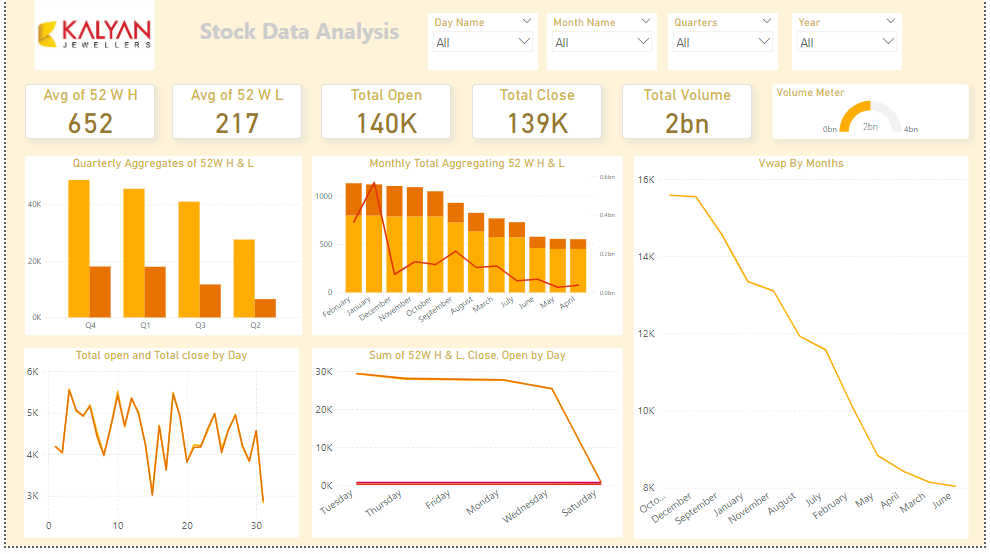

This screenshot's page, from the dashboard's own definition file:
{"tool":"powerbi","page":{"name":"Page 1","canvas":[1920,1080],"ordinal":0},"visuals":[{"type":"card","title":"Avg of 52 W H","fields":{"Values":["Kalyan Jewellers.Avg of 52w h"]},"box":[36.7,172.8,254.9,108],"z":0},{"type":"card","title":"Total Open","fields":{"Values":["Kalyan Jewellers.Total open"]},"box":[617.8,172.8,254.9,108],"z":1000},{"type":"card","title":"Avg of 52 W L","fields":{"Values":["Kalyan Jewellers.Avg of 52 w l"]},"box":[326.2,172.8,254.9,108],"z":2000},{"type":"card","title":"Total Close","fields":{"Values":["Kalyan Jewellers.Total close"]},"box":[915.8,172.8,254.9,108],"z":3000},{"type":"card","title":"Total Volume","fields":{"Values":["Kalyan Jewellers.Total volume"]},"box":[1209.6,172.8,254.9,108],"z":4000},{"type":"slicer","fields":{"Values":["Kalyan Jewellers.Month Name"]},"box":[1062,34,216,112],"z":5000},{"type":"slicer","fields":{"Values":["Kalyan Jewellers.Quarters"]},"box":[1300,34,216,112],"z":6000},{"type":"slicer","fields":{"Values":["Kalyan Jewellers.Year"]},"box":[1544,34,216,112],"z":7000},{"type":"slicer","fields":{"Values":["Kalyan Jewellers.Day Name"]},"box":[828,34,216,112],"z":8000},{"type":"image","box":[42,0,266,150],"z":9000},{"type":"clusteredColumnChart","title":"Quarterly Aggregates of 52W H & L","fields":{"Y":["Kalyan Jewellers.52W H ","Kalyan Jewellers.52W L "],"Category":["Kalyan Jewellers.Quarters"]},"box":[36.7,313.2,544.3,352.1],"z":10000},{"type":"lineChart","fields":{"Category":["Kalyan Jewellers.Date .Variation.Date Hierarchy.Day"],"Y":["Kalyan Jewellers.Total open","Kalyan Jewellers.Total close"]},"box":[36,692,540,372],"z":11000},{"type":"lineStackedColumnComboChart","title":"Monthly Total Aggregating 52 W H & L","fields":{"Y":["Kalyan Jewellers.Avg of 52w h","Kalyan Jewellers.Avg of 52 w l"],"Category":["Kalyan Jewellers.Month Name"],"Y2":["Kalyan Jewellers.Total volume"]},"box":[600,314,610,352],"z":12000},{"type":"lineChart","title":"Sum of 52W H & L, Close, Open by Day","fields":{"Y":["Kalyan Jewellers.Total close","Kalyan Jewellers.Total open","Kalyan Jewellers.Avg of 52 w l","Kalyan Jewellers.Avg of 52w h"],"Category":["Kalyan Jewellers.Day Name"]},"box":[600,692,610,372],"z":13000},{"type":"textbox","box":[326,0,500,146],"z":14000},{"type":"lineChart","title":"Vwap By Months","fields":{"Y":["Kalyan Jewellers.vwap "],"Category":["Kalyan Jewellers.Month Name"]},"box":[1233.4,313.2,656.6,751.7],"z":15000},{"type":"gauge","title":"Volume Meter","fields":{"Y":["Kalyan Jewellers.VOLUME "]},"box":[1503.4,172.8,386.6,108],"z":15001}]}

Visuals, with their boxes in screenshot pixels (x1, y1, x2, y2), scaled from the page's 1920x1080 canvas onto the 990x554 screenshot:
"Avg of 52 W H" card: l=19, t=89, r=150, b=144
"Total Open" card: l=319, t=89, r=450, b=144
"Avg of 52 W L" card: l=168, t=89, r=300, b=144
"Total Close" card: l=472, t=89, r=604, b=144
"Total Volume" card: l=624, t=89, r=755, b=144
slicer - Kalyan Jewellers.Month Name: l=548, t=17, r=659, b=75
slicer - Kalyan Jewellers.Quarters: l=670, t=17, r=782, b=75
slicer - Kalyan Jewellers.Year: l=796, t=17, r=908, b=75
slicer - Kalyan Jewellers.Day Name: l=427, t=17, r=538, b=75
image: l=22, t=0, r=159, b=77
"Quarterly Aggregates of 52W H & L" clusteredColumnChart: l=19, t=161, r=300, b=341
lineChart - Kalyan Jewellers.Date .Variation.Date Hierarchy.Day x Kalyan Jewellers.Total open: l=19, t=355, r=297, b=546
"Monthly Total Aggregating 52 W H & L" lineStackedColumnComboChart: l=309, t=161, r=624, b=342
"Sum of 52W H & L, Close, Open by Day" lineChart: l=309, t=355, r=624, b=546
textbox: l=168, t=0, r=426, b=75
"Vwap By Months" lineChart: l=636, t=161, r=975, b=546
"Volume Meter" gauge: l=775, t=89, r=975, b=144
